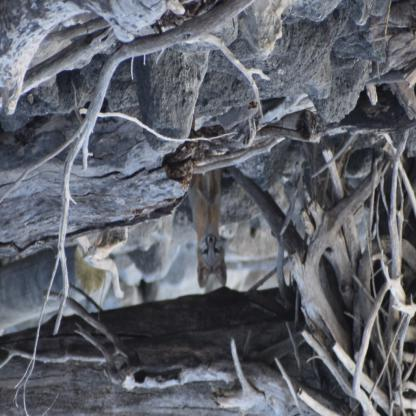zorro: (188, 164, 230, 293)
